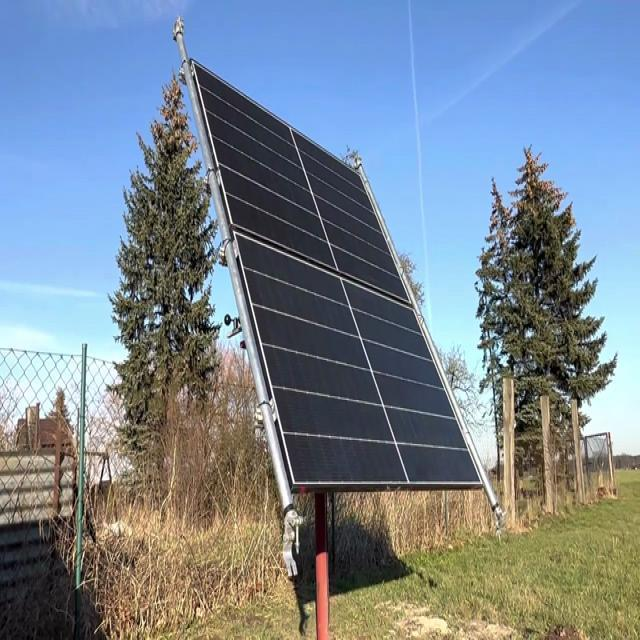Normal Solar Panel: (193, 61, 483, 484)
